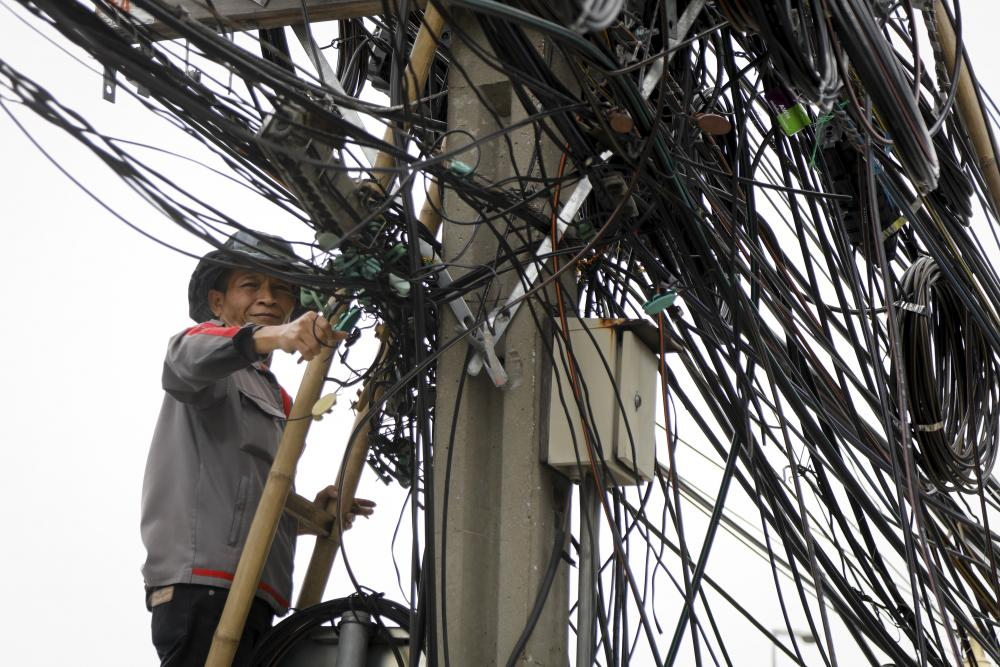wires: (639, 0, 998, 664)
